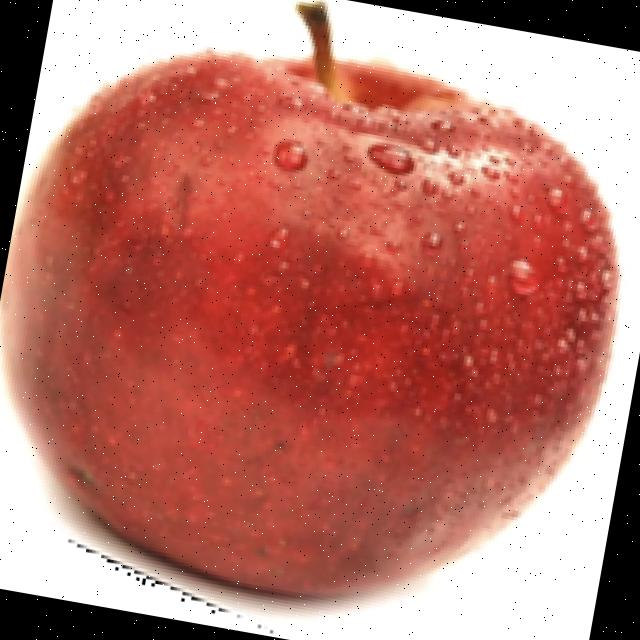apple: (0, 0, 625, 624)
